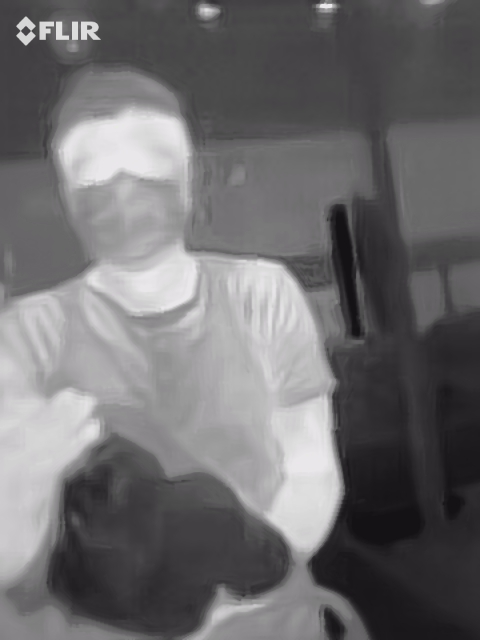head: (48, 61, 196, 269)
